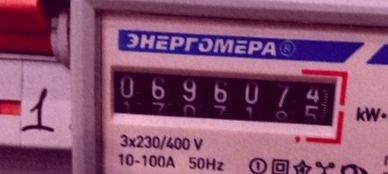0: (115, 72, 135, 98), (241, 78, 259, 105)
4: (303, 81, 318, 103)
5: (302, 103, 317, 123)
6: (146, 73, 166, 99), (210, 76, 228, 104)
7: (272, 81, 289, 108)
9: (178, 75, 197, 102)
screen: (99, 51, 350, 145)
